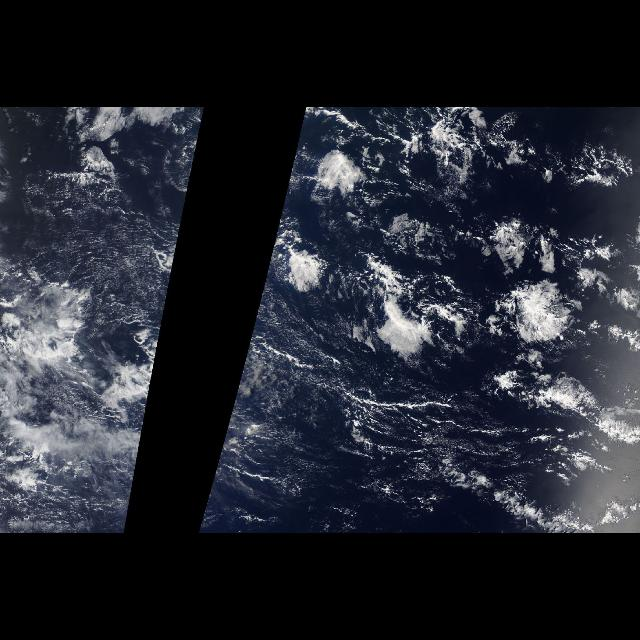Flower: (482, 193, 606, 351)
Sugar: (14, 186, 180, 344)
